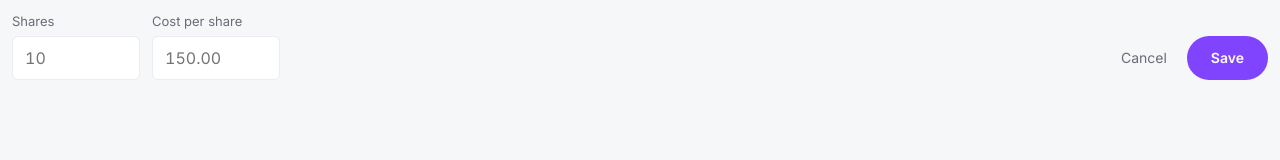
Test: HoldingsForm error states › does not mark the fields invalid when the save request fails
In the number field labelled "Shares": (76, 58) [12,36,140,80], type "12"
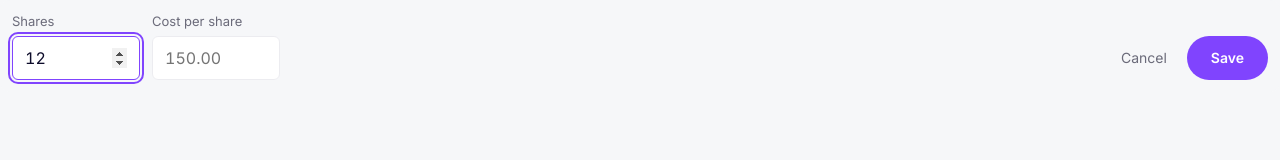
In the number field labelled "Cost per share": (216, 58) [152,36,280,80], type "99.50"
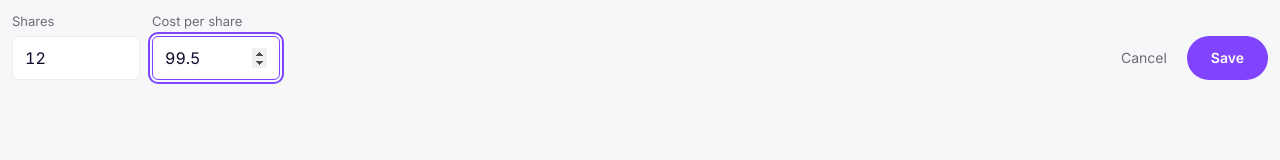
Click the button "Save": (1227, 58) [1187,36,1268,80]
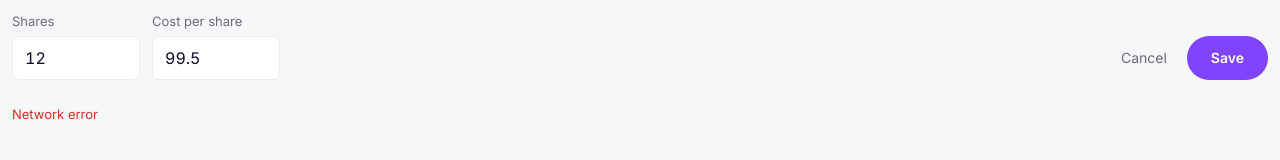
Expected: the message reads "Network error", [12,106,98,122]
